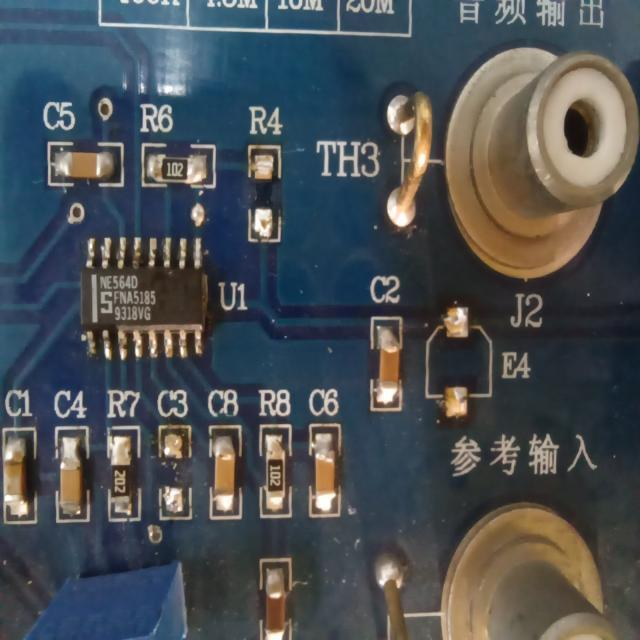Missing component: (421, 292, 516, 436), (152, 382, 202, 532), (244, 103, 288, 254)
